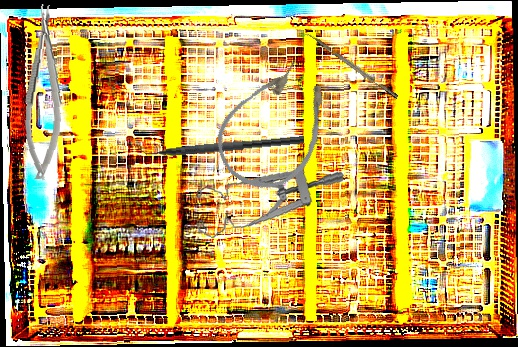Cannula: (201, 45, 352, 206)
Chopper: (301, 29, 399, 104), (132, 124, 305, 162)
Needle Holder: (19, 3, 70, 181)
Speculum: (190, 151, 345, 255)
